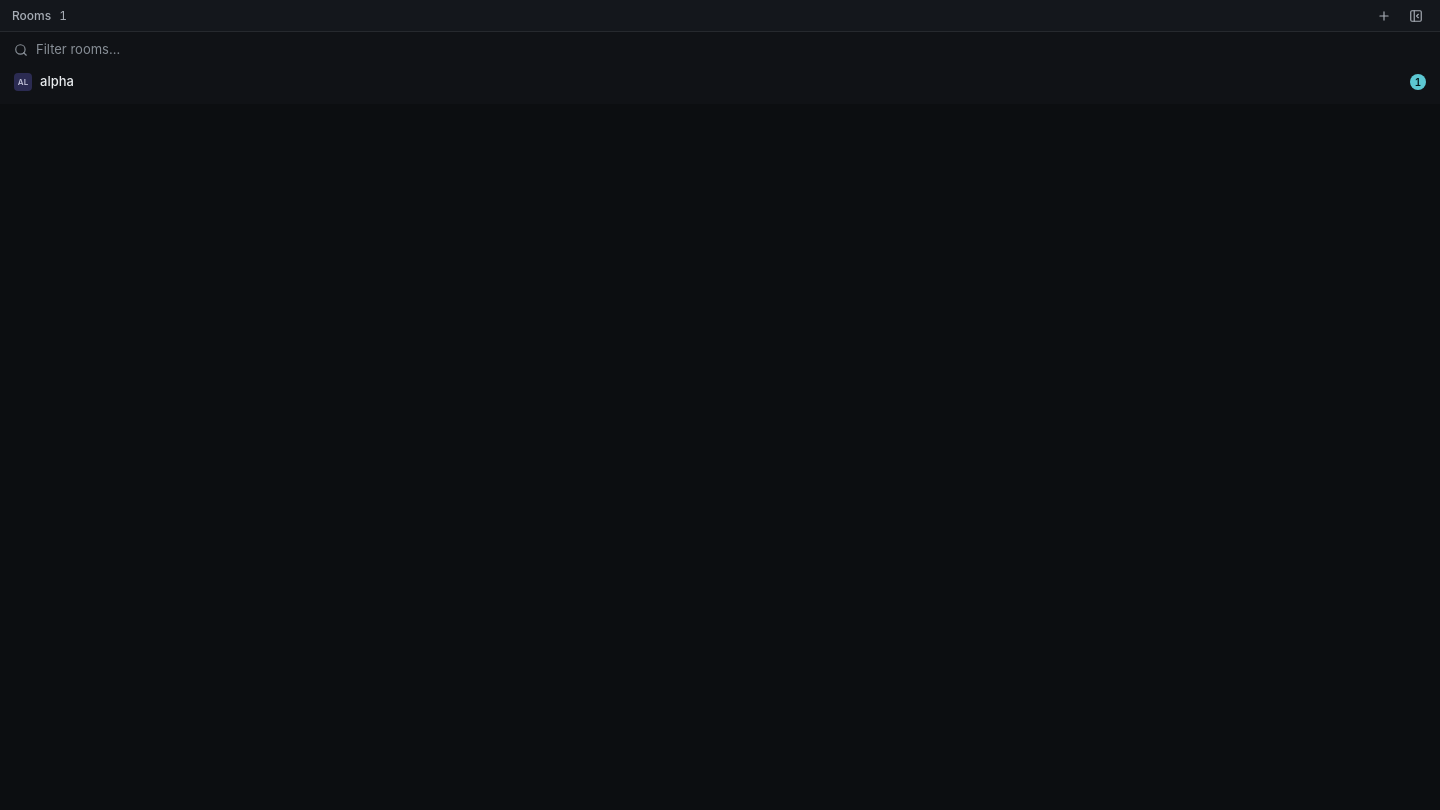
Scenario: <RoomsSidebar /> new room in the list › keeps the name and says why when the hub refuses it
The image size is (1440, 810).
Click the button named "New room or folder" at (1384, 16), box [1372,4,1396,28]
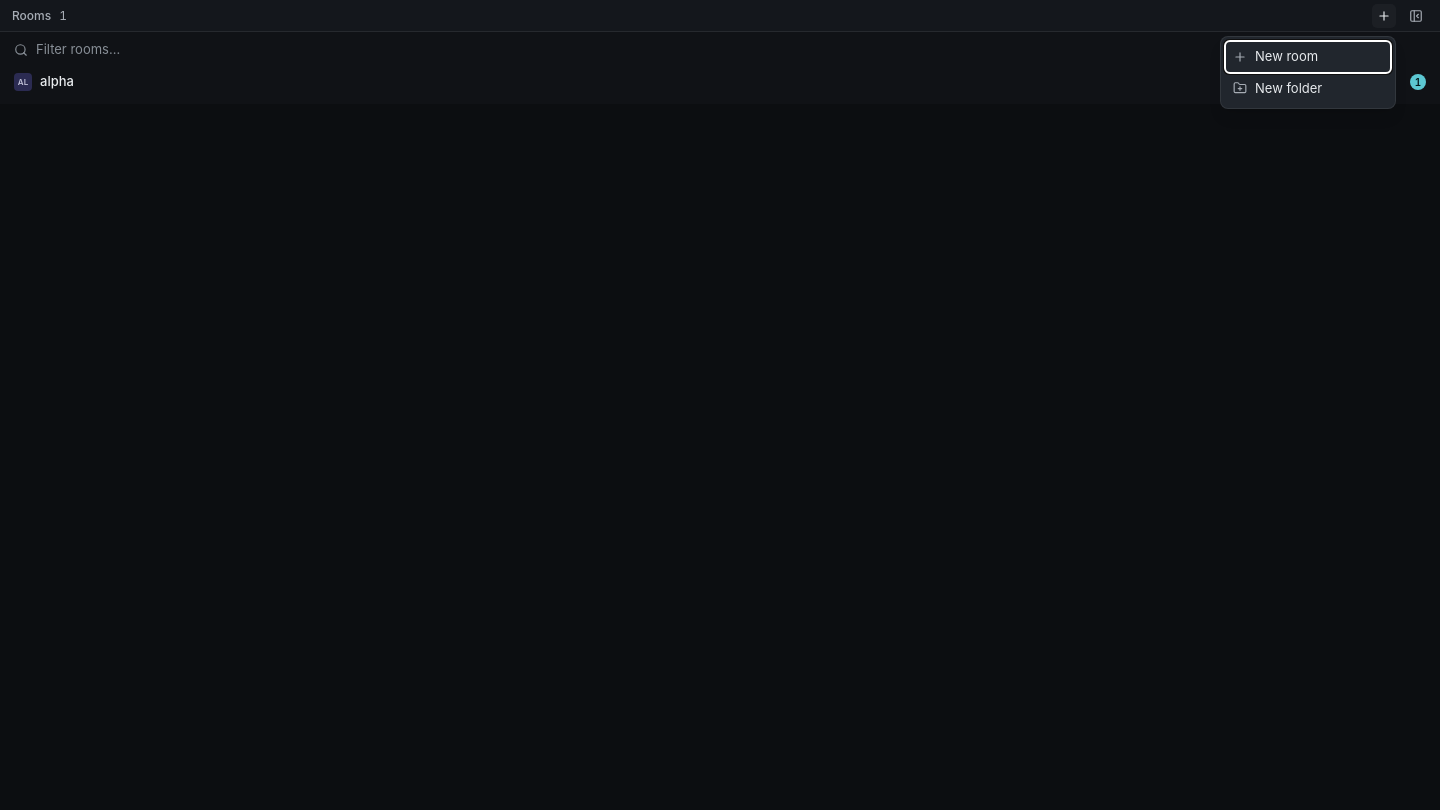
Click the button "New room" at (1308, 57), box [1225,41,1391,72]
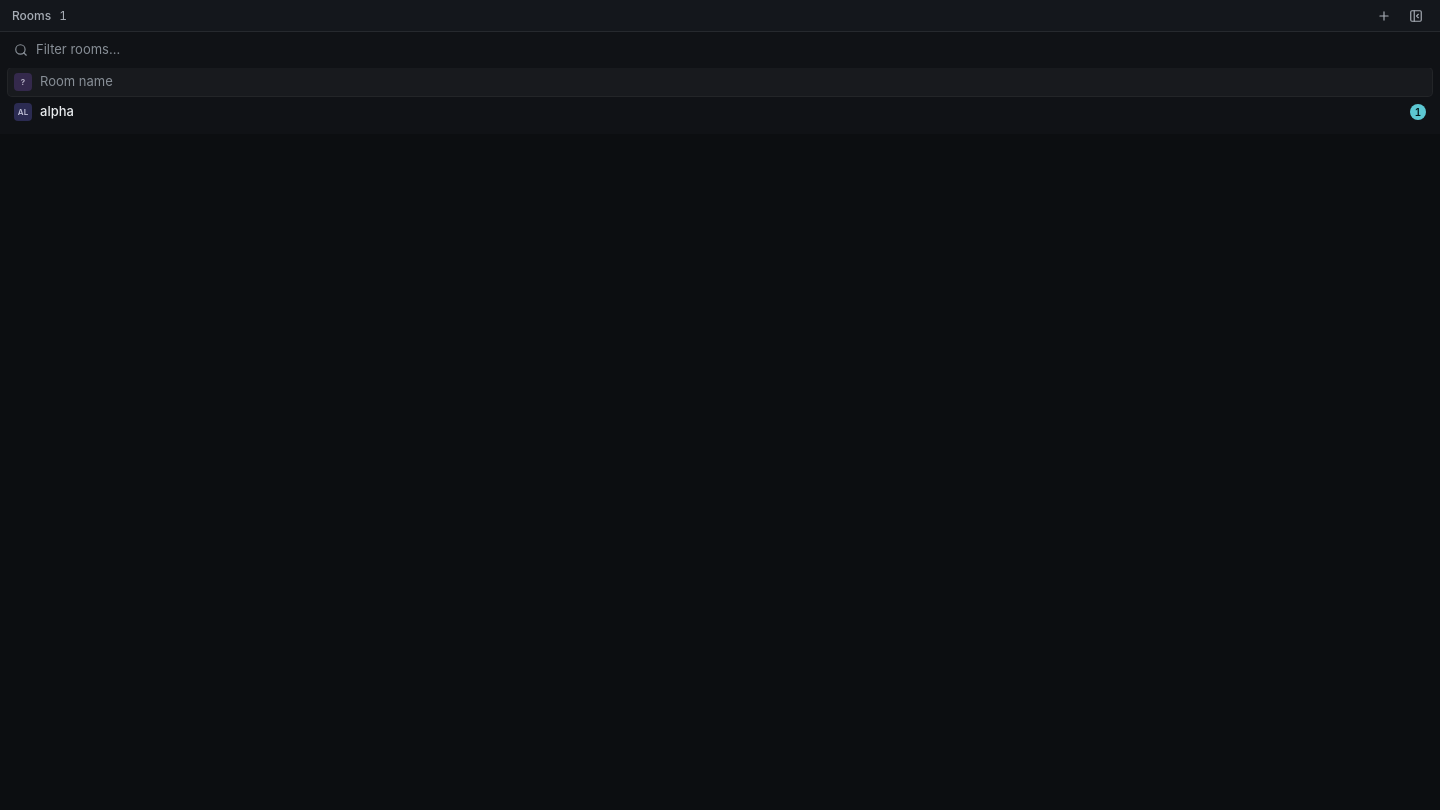
Type keys "alpha{Enter}"
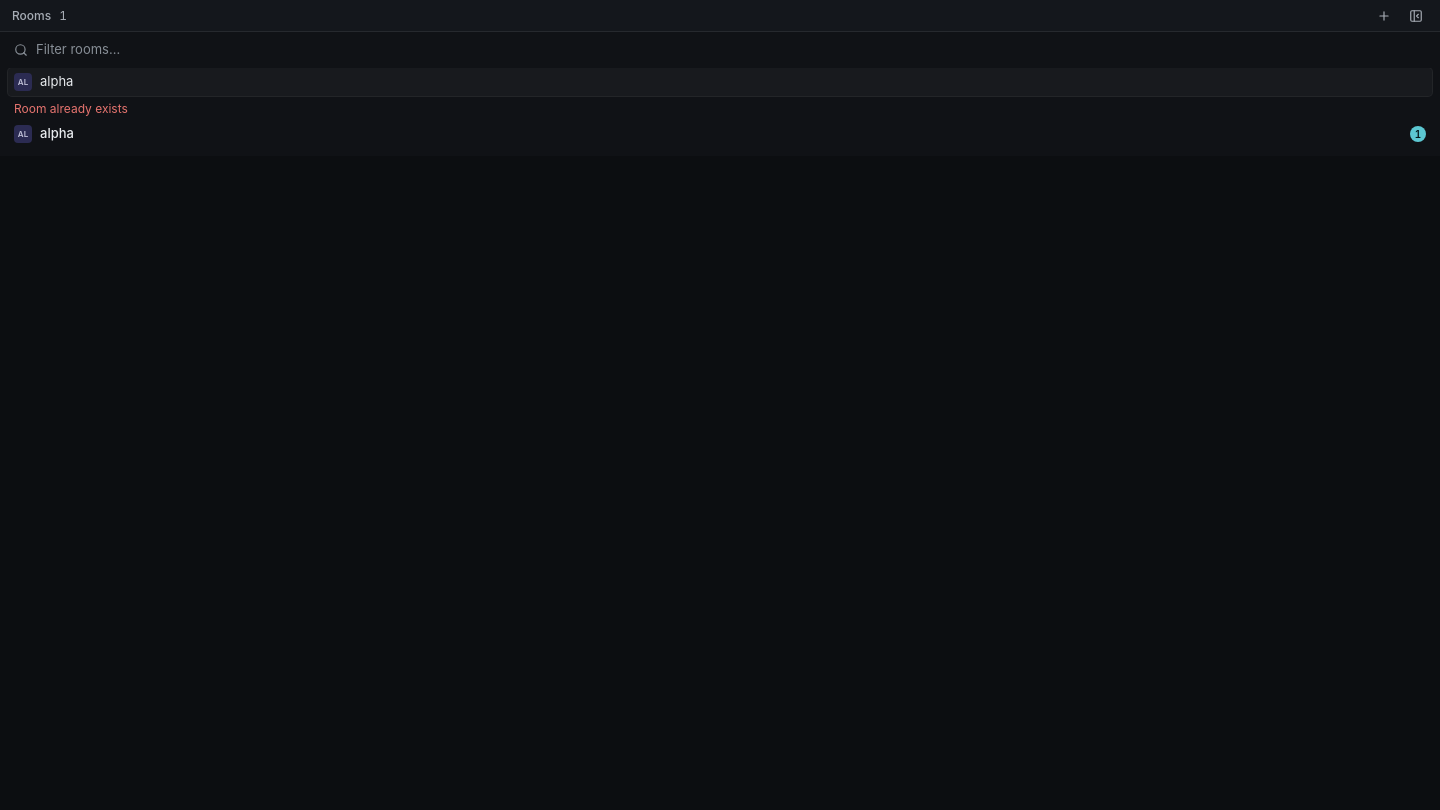
Result: the message reads "Room already exists" at [14,101,128,116]
Result: the field named "New room name" holds "alpha" at [40,72,1426,92]
